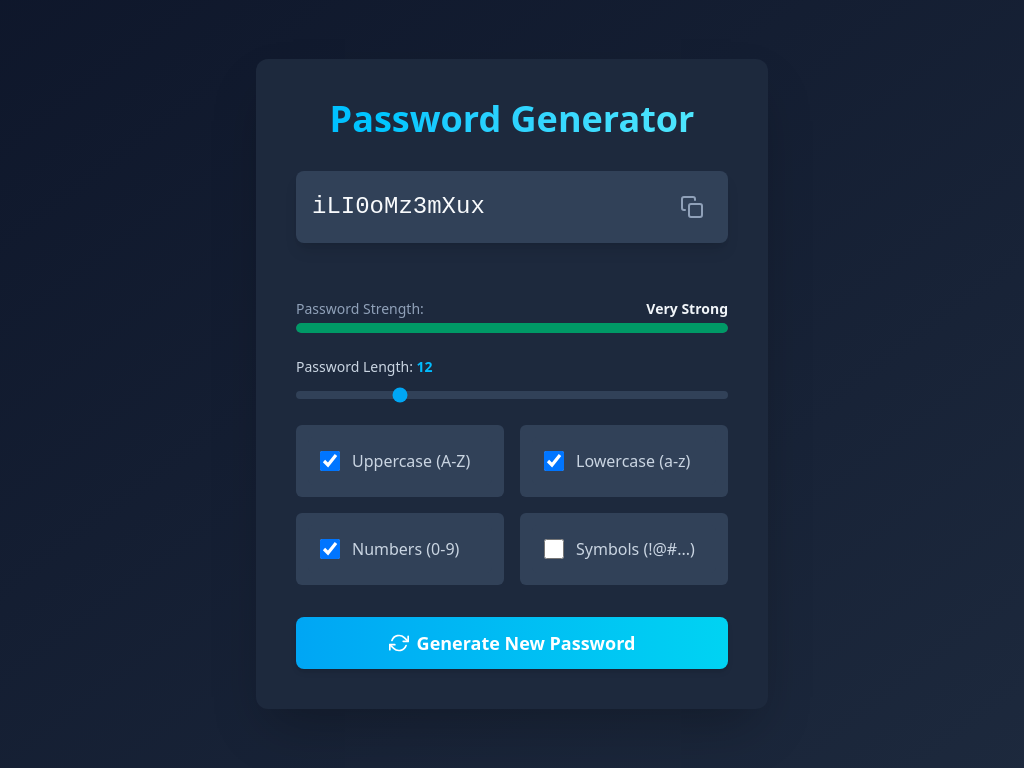
Test case: App Component - Password Generator › should show an error message if no character types are selected
Click the checkbox labelled "Uppercase (A-Z)": x=330, y=461 [320,451,340,471]
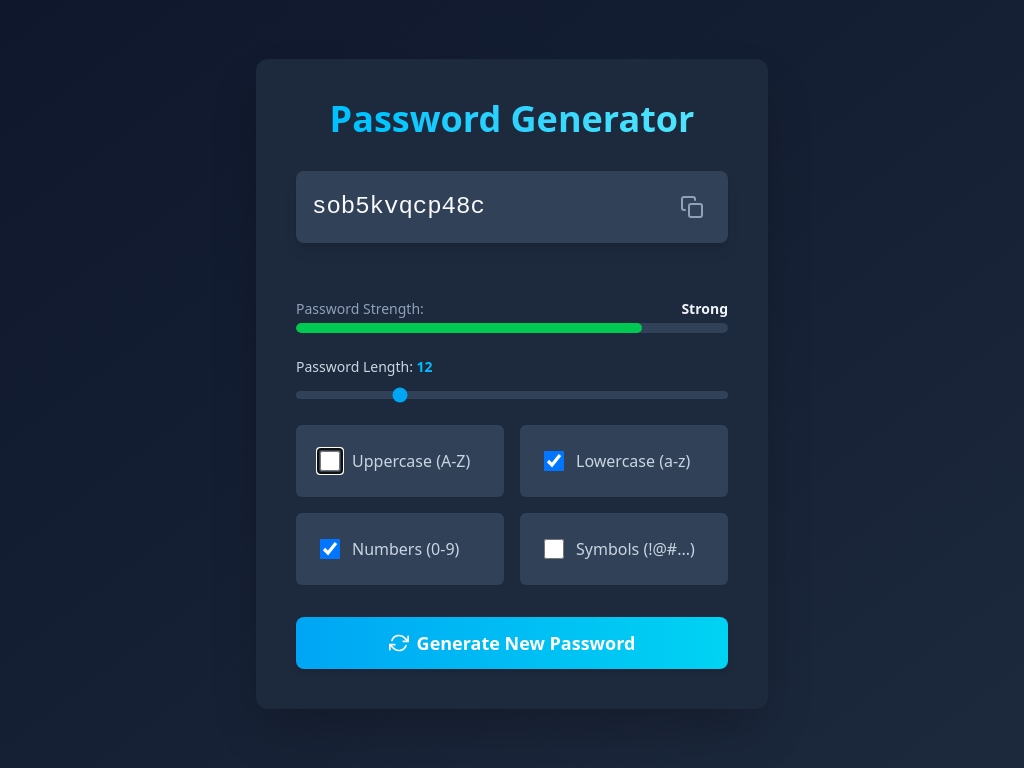
Click the checkbox labelled "Lowercase (a-z)": x=554, y=461 [544,451,564,471]
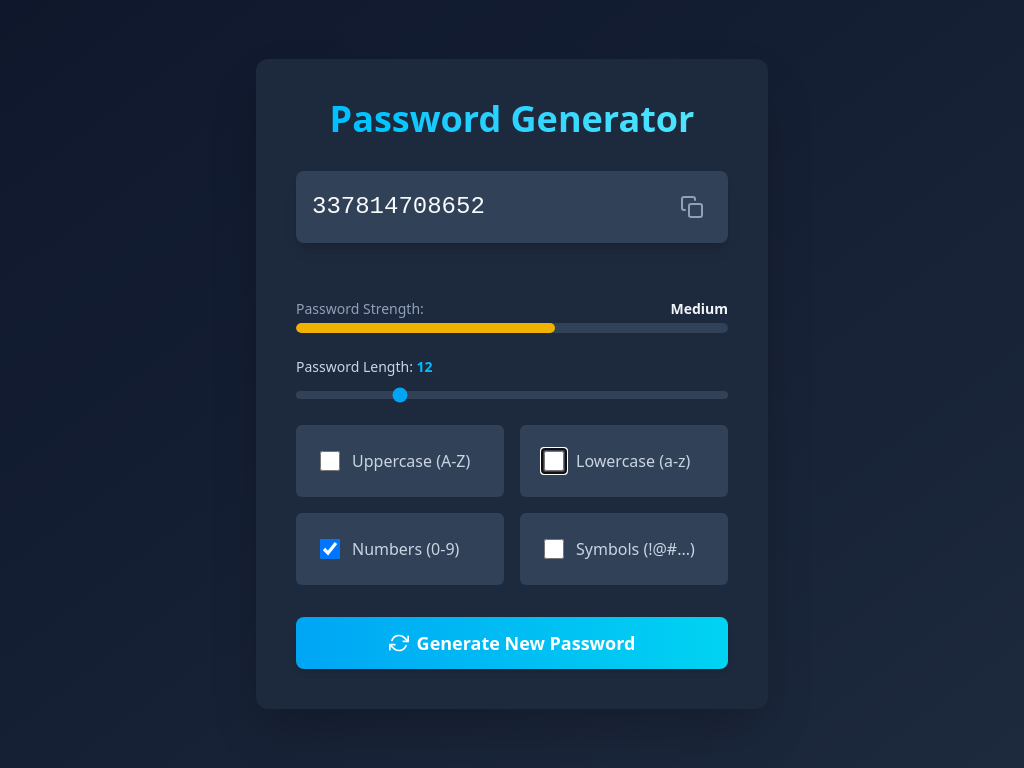
Click the checkbox labelled "Numbers (0-9)": x=330, y=549 [320,539,340,559]
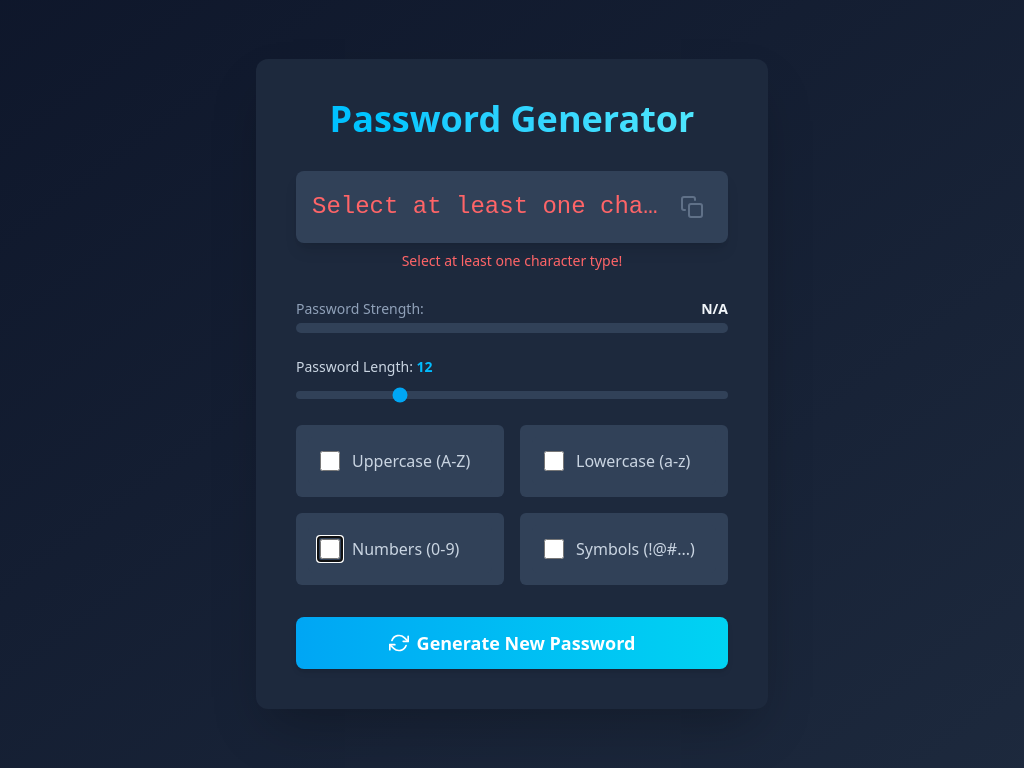
Now the text "Select at least one character type!" is shown, box [402,251,622,270]
Now the field with placeholder "Your Password.." is not empty, box [312,191,672,223]
